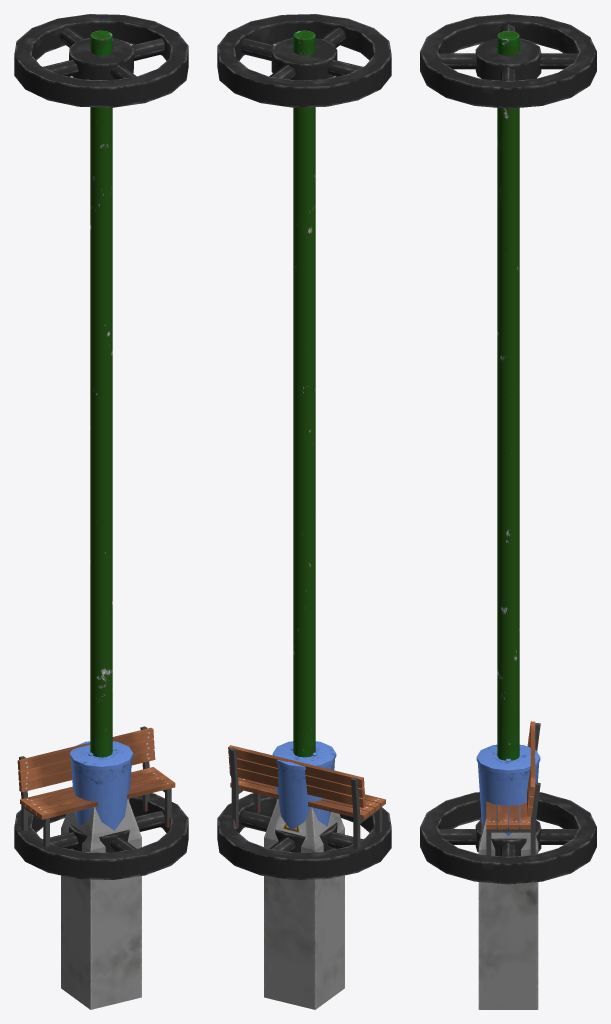
The model's file is LampPostTrachCanBench.gltf.
The picture shows the model from 3 angles, left to right: view 1: azimuth 30°, elevation 25°; view 2: azimuth 150°, elevation 25°; view 3: azimuth 270°, elevation 25°; orthographic projection.
Parts seen in each view (by area): view 1: LampPost_1, LampPostLight, Bench, TrashCan, Pole, LampPost_2, TrashCanLid; view 2: LampPost_1, LampPostLight, Bench, TrashCan, TrashCanLid, Pole; view 3: LampPost_1, LampPostLight, Bench, TrashCan, TrashCanLid, LampPost_2, Pole.
Boxes of the visible parts, left/top/right/bottom form: LampPost_1: left=14, top=14, right=188, bottom=1009; LampPostLight: left=14, top=793, right=188, bottom=879; Bench: left=17, top=726, right=175, bottom=847; TrashCan: left=71, top=759, right=131, bottom=830; Pole: left=90, top=32, right=111, bottom=752; LampPost_2: left=44, top=28, right=165, bottom=79; TrashCanLid: left=69, top=741, right=133, bottom=769; LampPost_1: left=217, top=14, right=391, bottom=1009; LampPostLight: left=217, top=793, right=391, bottom=879; Bench: left=228, top=745, right=385, bottom=849; TrashCan: left=275, top=759, right=334, bottom=830; TrashCanLid: left=272, top=741, right=336, bottom=769; Pole: left=296, top=32, right=313, bottom=754; LampPost_1: left=420, top=14, right=596, bottom=1009; LampPostLight: left=420, top=792, right=596, bottom=884; Bench: left=486, top=721, right=540, bottom=855; TrashCan: left=477, top=762, right=539, bottom=835; TrashCanLid: left=476, top=744, right=540, bottom=773; LampPost_2: left=439, top=24, right=576, bottom=81; Pole: left=498, top=31, right=518, bottom=749.
Bounding box in the file's own units: 2 × 12 × 2.
Materials: 2 (2 with a texture image).
